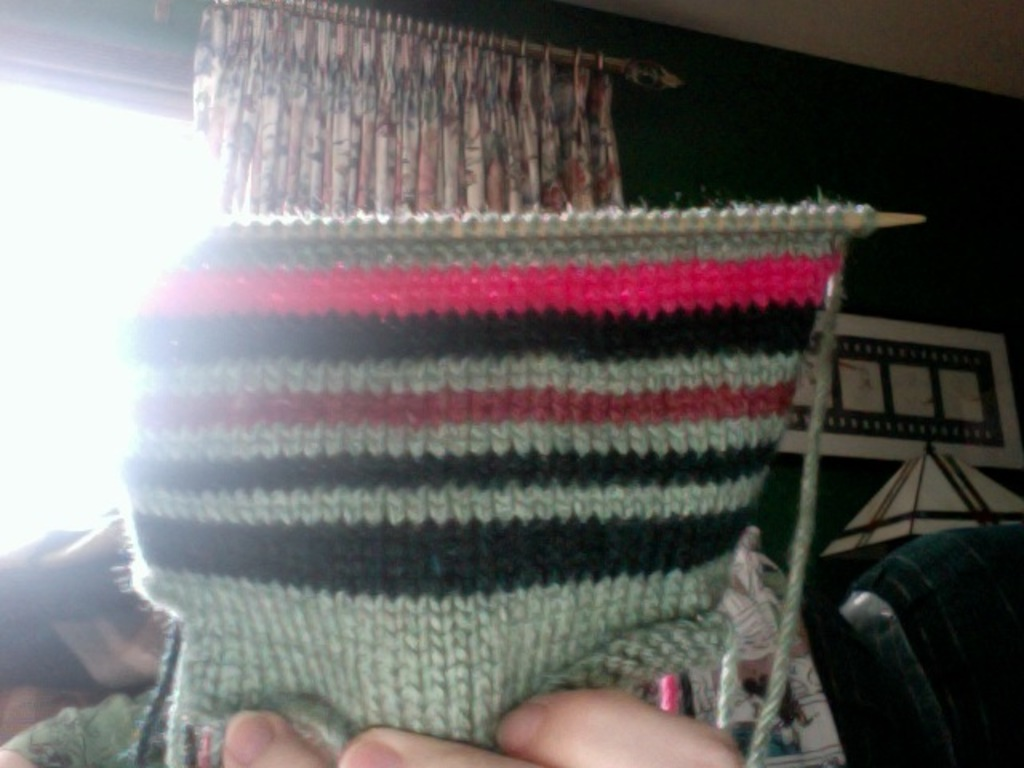Human_hand: (222, 686, 746, 766)
